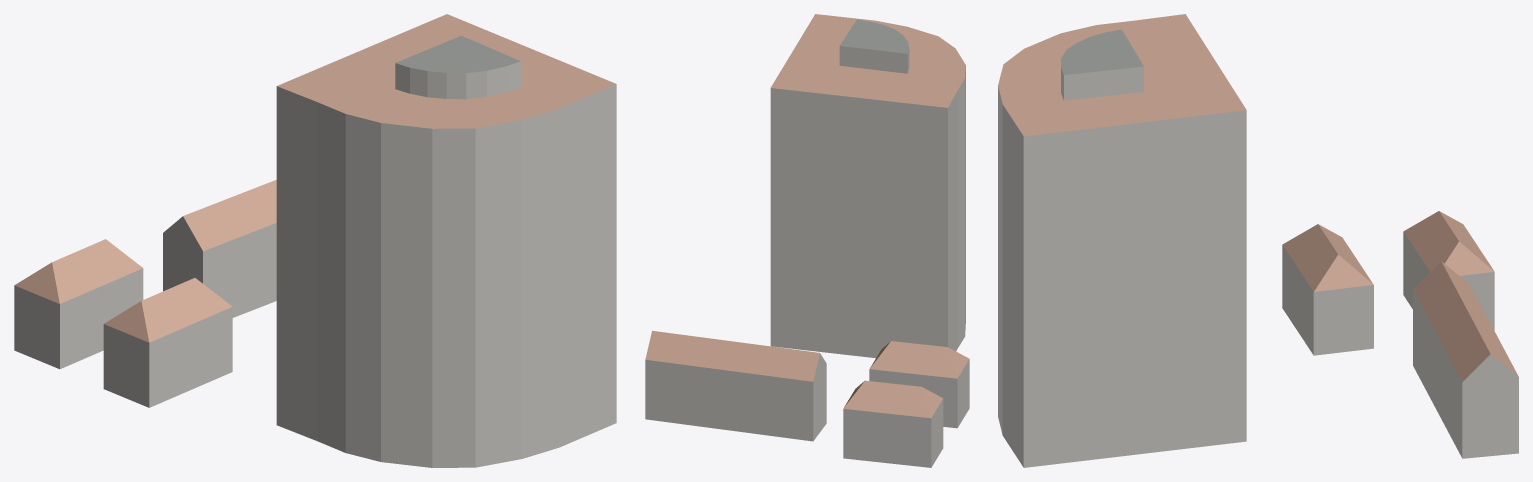
The model's file is gridID_65.dae.
The picture shows the model from 3 angles, left to right: view 1: azimuth 30°, elevation 25°; view 2: azimuth 150°, elevation 25°; view 3: azimuth 270°, elevation 25°; orthographic projection. The views are drawn at different scales.
Visible parts, largest first — view 1: model_gridID_65_w113682492, model_gridID_65_w383801384_003, model_gridID_65_w383801392, model_gridID_65_w383801385; view 2: model_gridID_65_w113682492, model_gridID_65_w383801385, model_gridID_65_w383801392, model_gridID_65_w383801384_003; view 3: model_gridID_65_w113682492, model_gridID_65_w383801385, model_gridID_65_w383801384_003, model_gridID_65_w383801392.
Boxes of the visible parts, <box> form: model_gridID_65_w113682492: <box>276,14,616,467</box>; model_gridID_65_w383801384_003: <box>103,278,232,407</box>; model_gridID_65_w383801392: <box>14,239,143,369</box>; model_gridID_65_w383801385: <box>163,180,276,317</box>; model_gridID_65_w113682492: <box>770,14,965,358</box>; model_gridID_65_w383801385: <box>645,330,826,441</box>; model_gridID_65_w383801392: <box>843,380,943,467</box>; model_gridID_65_w383801384_003: <box>869,341,969,428</box>; model_gridID_65_w113682492: <box>998,14,1246,467</box>; model_gridID_65_w383801385: <box>1413,261,1518,458</box>; model_gridID_65_w383801384_003: <box>1282,224,1373,355</box>; model_gridID_65_w383801392: <box>1403,211,1494,330</box>.
Bounding box in the file's own units: 75.68 × 92.6 × 70.
